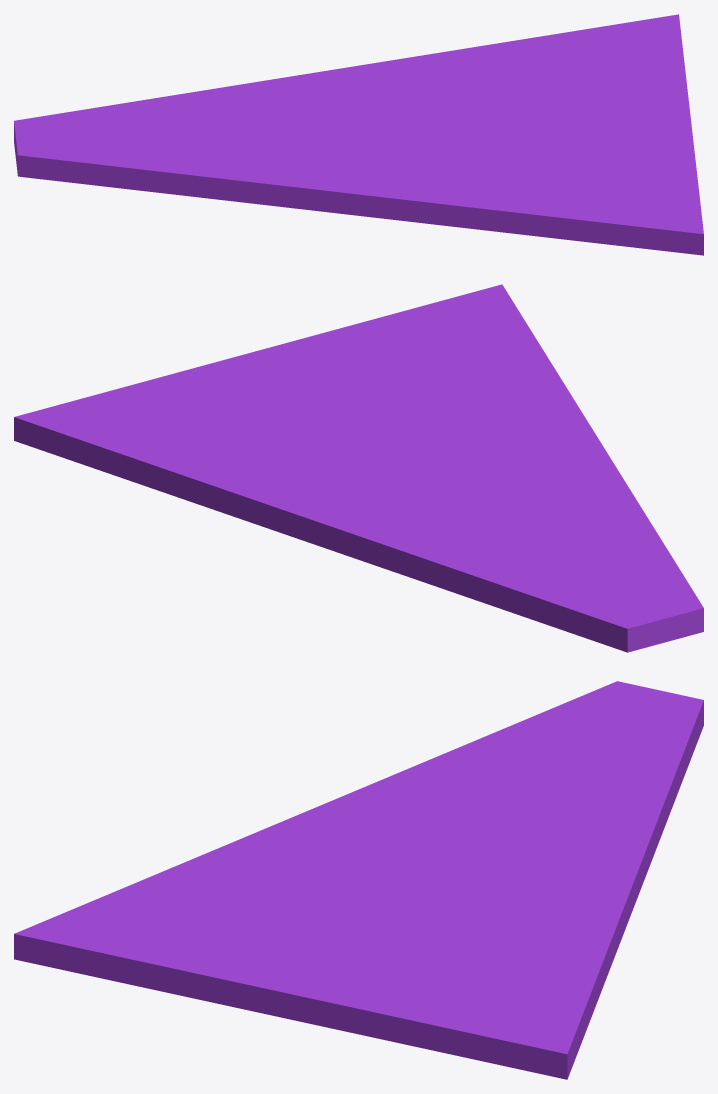
Rendered from StairsStep_46.fbx.
The picture shows the model from 3 angles, top to bottom: view 1: azimuth 30°, elevation 25°; view 2: azimuth 150°, elevation 25°; view 3: azimuth 270°, elevation 25°; orthographic projection. The views are drawn at different scales.
Parts seen in each view (by area): view 1: StairsStep_46; view 2: StairsStep_46; view 3: StairsStep_46.
Part boxes in pixels (bbox=[...]): StairsStep_46: bbox=[14, 14, 703, 255]; StairsStep_46: bbox=[14, 284, 703, 652]; StairsStep_46: bbox=[14, 681, 703, 1079].
Bounding box in the file's own units: 563 × 17.94 × 440.
